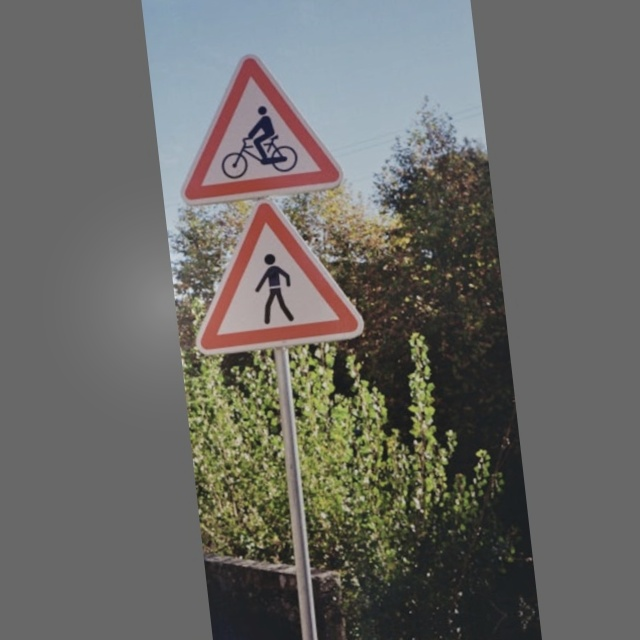Cycle_Crossing: (173, 44, 336, 205)
